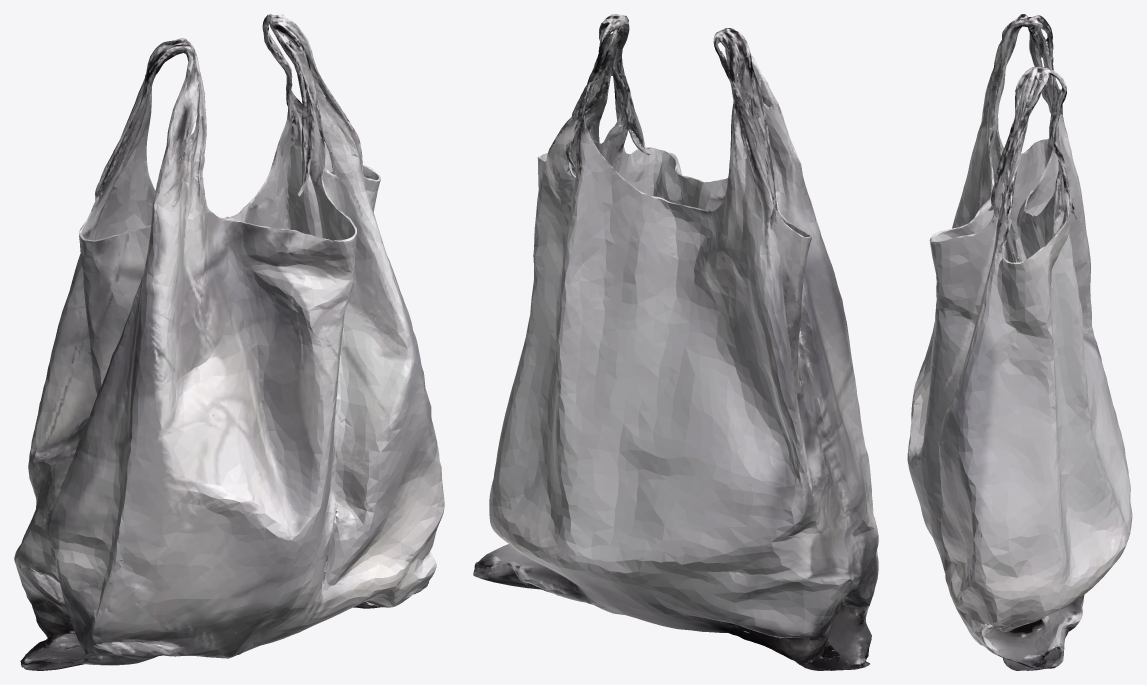
Rendered from KantongPlastik.glb.
3 views of the same model, side by side, from view 1: azimuth 30°, elevation 25°; view 2: azimuth 150°, elevation 25°; view 3: azimuth 270°, elevation 25° (orthographic). The views are drawn at different scales.
Parts seen in each view (by area): view 1: geometry_0; view 2: geometry_0; view 3: geometry_0.
Part boxes in pixels (x1,y1,x2,y2): geometry_0: [14, 14, 444, 670]; geometry_0: [473, 14, 878, 670]; geometry_0: [907, 14, 1132, 670].
Size of the model in its own units: 1.38 by 1.99 by 0.7394.
Materials: 1 (1 with a texture image).
